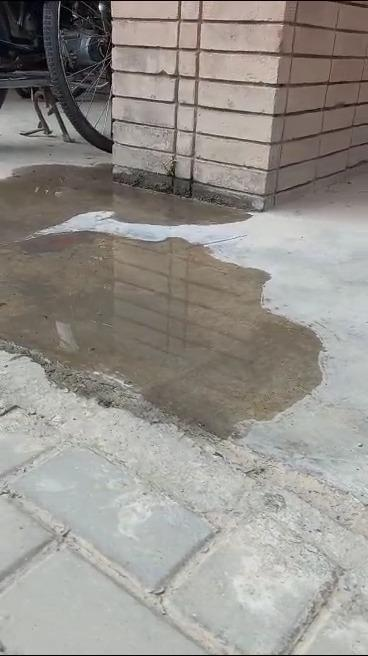water accumulation: (0, 164, 325, 441)
